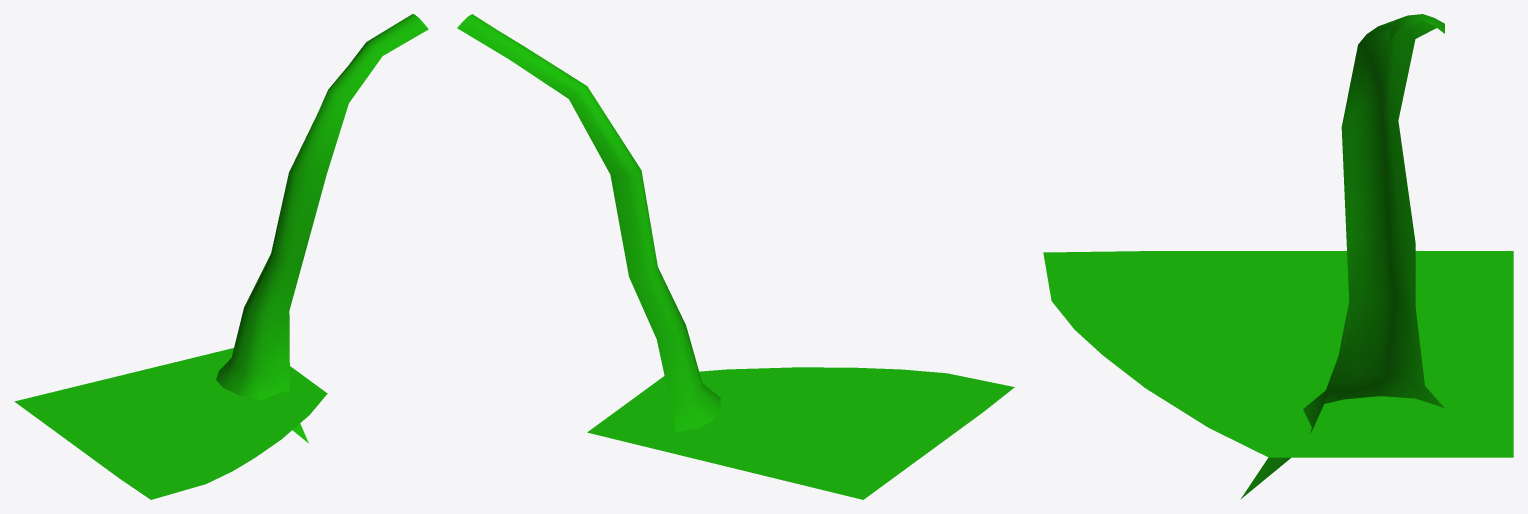
The model's file is Water.FBX.
The picture shows the model from 3 angles, left to right: view 1: azimuth 30°, elevation 25°; view 2: azimuth 150°, elevation 25°; view 3: azimuth 270°, elevation 25°; orthographic projection. The views are drawn at different scales.
Visible parts, largest first — view 1: Plane001, Plane002; view 2: Plane001, Plane002; view 3: Plane001, Plane002.
Boxes of the visible parts, <box> form: Plane001: <box>14,348,327,499</box>; Plane002: <box>216,14,428,443</box>; Plane001: <box>587,367,1014,499</box>; Plane002: <box>457,14,720,431</box>; Plane001: <box>1043,251,1513,457</box>; Plane002: <box>1240,14,1444,499</box>.
Bounding box in the file's own units: 1210 × 1075 × 747.
